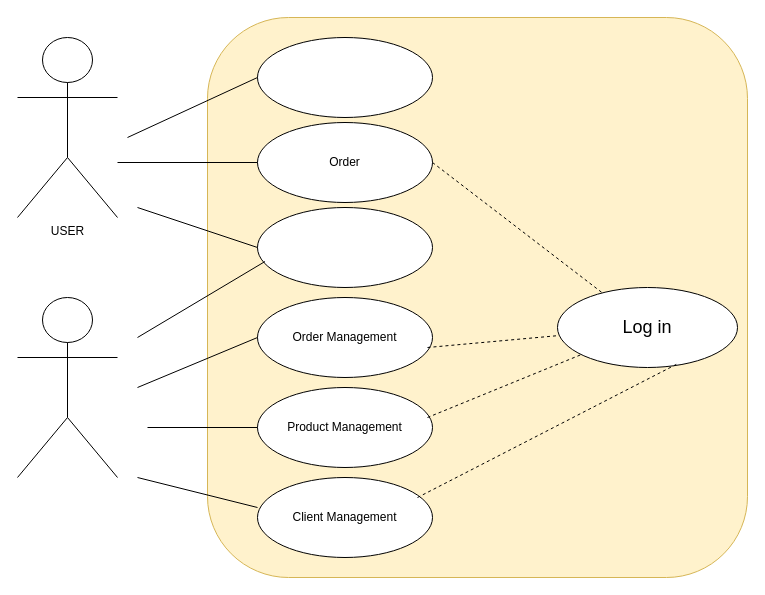
The diagram is 765 pixels wide and 595 high, and some of its shapes have lost their labels. Here are the shapes that lost their labels. From the top down, the centre of each, then its label:
point 344,77: Sign Up
point 344,247: Browsing
point 67,387: Admin
